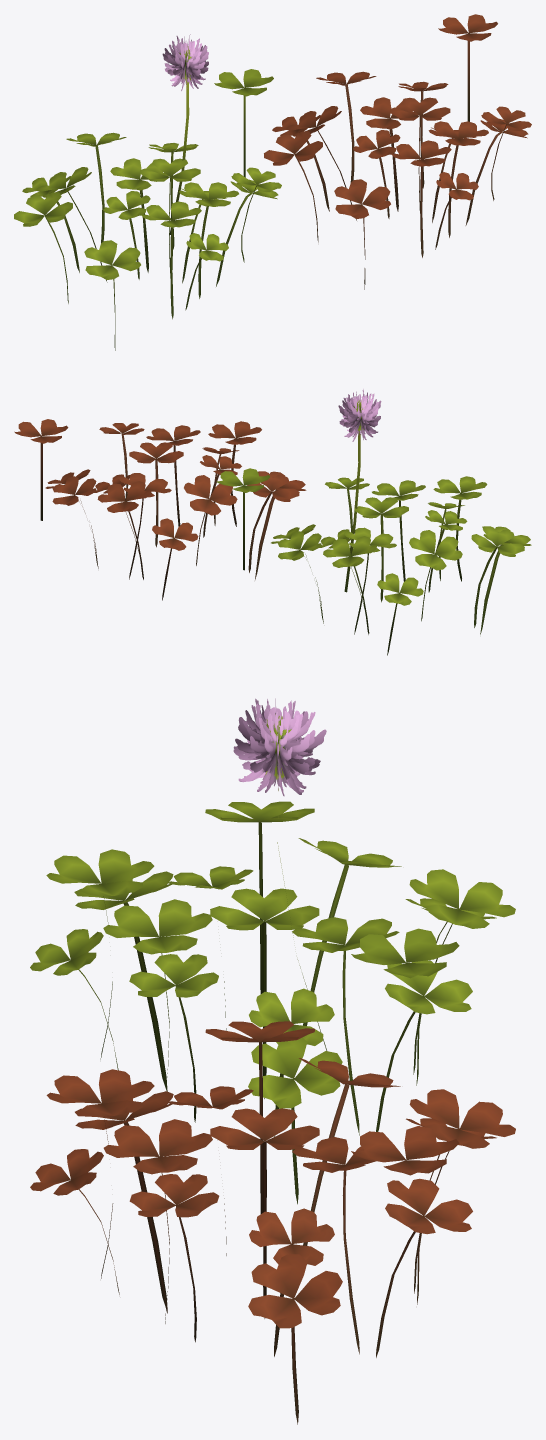
The model's file is Clover.fbx.
3 renders of one model, top to bottom at view 1: azimuth 30°, elevation 25°; view 2: azimuth 150°, elevation 25°; view 3: azimuth 270°, elevation 25°, orthographic. The views are drawn at different scales.
Visible parts, largest first — view 1: Clover_red_Bundle_A_LOD0, Clover_Bundle_A_LOD0, Clover_Flower_LOD0, Clover_red_LOD0, Clover_LOD0; view 2: Clover_Bundle_A_LOD0, Clover_red_Bundle_A_LOD0, Clover_Flower_LOD0, Clover_red_LOD0, Clover_LOD0; view 3: Clover_red_Bundle_A_LOD0, Clover_Bundle_A_LOD0, Clover_Flower_LOD0, Clover_red_LOD0, Clover_LOD0.
Boxes of the visible parts, left/top/right/bottom form: Clover_red_Bundle_A_LOD0: left=264, top=71, right=531, bottom=289; Clover_Bundle_A_LOD0: left=14, top=132, right=281, bottom=350; Clover_Flower_LOD0: left=162, top=34, right=208, bottom=234; Clover_red_LOD0: left=438, top=14, right=497, bottom=121; Clover_LOD0: left=214, top=69, right=273, bottom=177; Clover_Bundle_A_LOD0: left=271, top=476, right=531, bottom=655; Clover_red_Bundle_A_LOD0: left=45, top=421, right=306, bottom=600; Clover_Flower_LOD0: left=338, top=389, right=381, bottom=592; Clover_red_LOD0: left=14, top=419, right=68, bottom=520; Clover_LOD0: left=216, top=468, right=269, bottom=570; Clover_red_Bundle_A_LOD0: left=30, top=1021, right=515, bottom=1424; Clover_Bundle_A_LOD0: left=30, top=801, right=515, bottom=1204; Clover_Flower_LOD0: left=233, top=698, right=326, bottom=1050; Clover_red_LOD0: left=351, top=1126, right=459, bottom=1175; Clover_LOD0: left=351, top=928, right=459, bottom=978.
Size of what is drawn, in the model's own units: 23.03 by 11.58 by 10.41.
